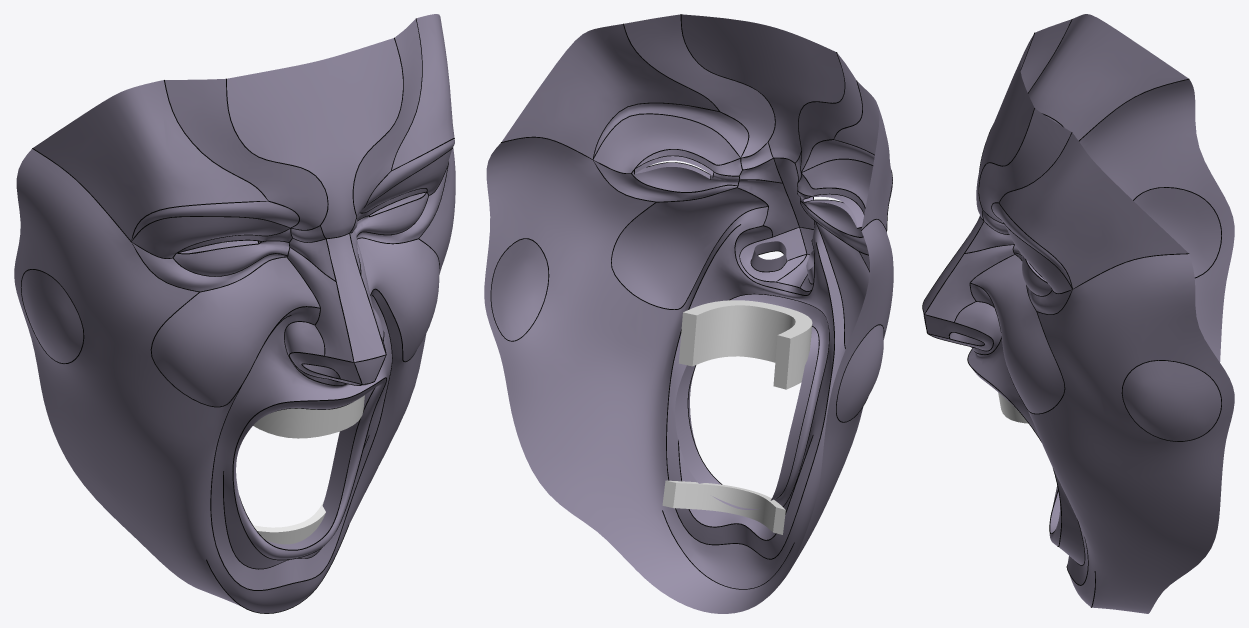
The model's file is 头部分面体_20260324184142_opt.glb.
The picture shows the model from 3 angles, left to right: view 1: azimuth 30°, elevation 25°; view 2: azimuth 150°, elevation 25°; view 3: azimuth 270°, elevation 25°; orthographic projection. The views are drawn at different scales.
Parts seen in each view (by area): view 1: TaylorRage-Blockout, TaylorRage-Blockout002, TaylorRageEdge_Zobi; view 2: TaylorRage-Blockout, TaylorRageEdge_Zobi, TaylorRage-Blockout002; view 3: TaylorRage-Blockout, TaylorRage-Blockout002.
Boxes of the visible parts, x1,y1,x2,y2 form: TaylorRage-Blockout: (14, 14, 455, 613); TaylorRage-Blockout002: (21, 18, 454, 613); TaylorRageEdge_Zobi: (253, 395, 364, 544); TaylorRage-Blockout: (484, 14, 893, 613); TaylorRageEdge_Zobi: (662, 300, 812, 534); TaylorRage-Blockout002: (490, 14, 892, 589); TaylorRage-Blockout: (923, 14, 1234, 613); TaylorRage-Blockout002: (922, 19, 1221, 607).
Bounding box in the file's own units: 0.297 × 0.4 × 0.2107.
